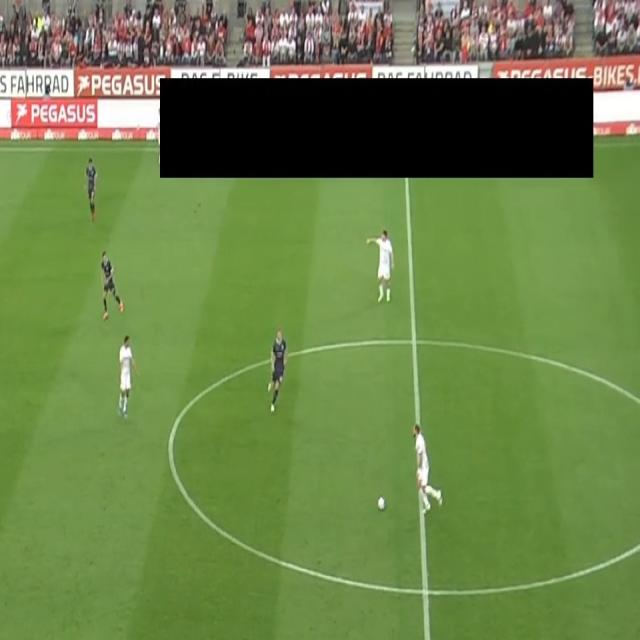ball: (377, 495, 386, 512)
